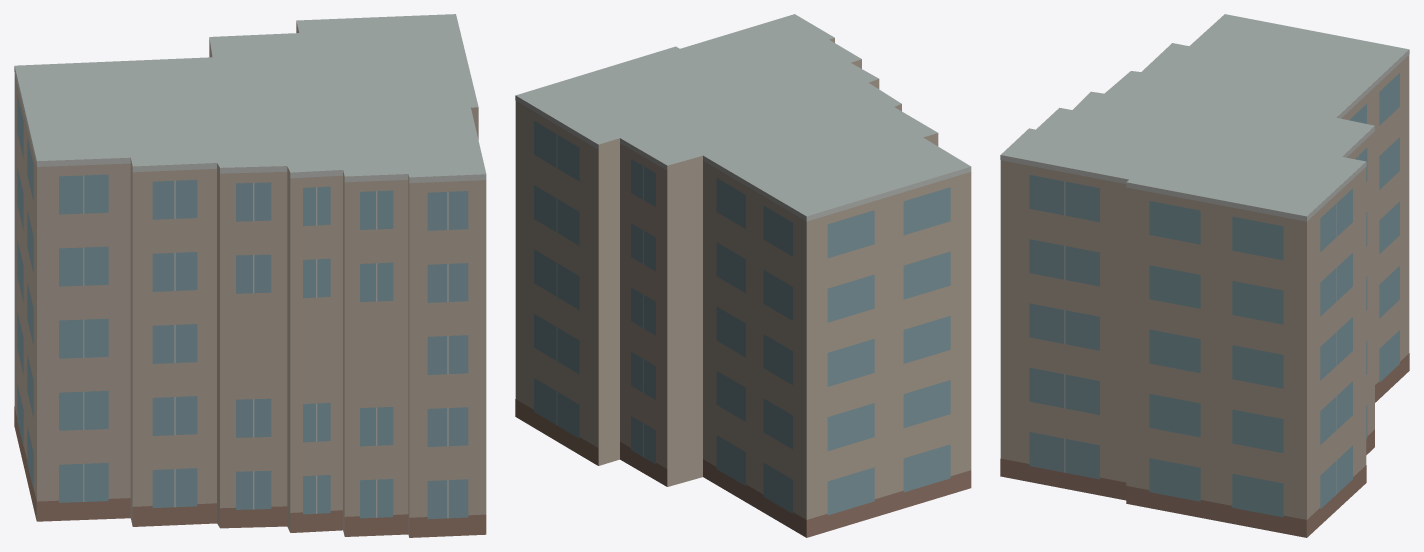
The model's file is survey-upis-32937421.glb.
3 views of the same model, side by side, from view 1: azimuth 30°, elevation 25°; view 2: azimuth 150°, elevation 25°; view 3: azimuth 270°, elevation 25° (orthographic). The views are drawn at different scales.
Visible parts, largest first — view 1: survey-upis-32937421.tmp; view 2: survey-upis-32937421.tmp; view 3: survey-upis-32937421.tmp.
Part boxes in pixels (x1,y1,x2,y2): survey-upis-32937421.tmp: (14, 14, 486, 537); survey-upis-32937421.tmp: (515, 14, 971, 537); survey-upis-32937421.tmp: (1000, 14, 1409, 537).
Bounding box in the file's own units: 20.61 × 15.25 × 17.59.
